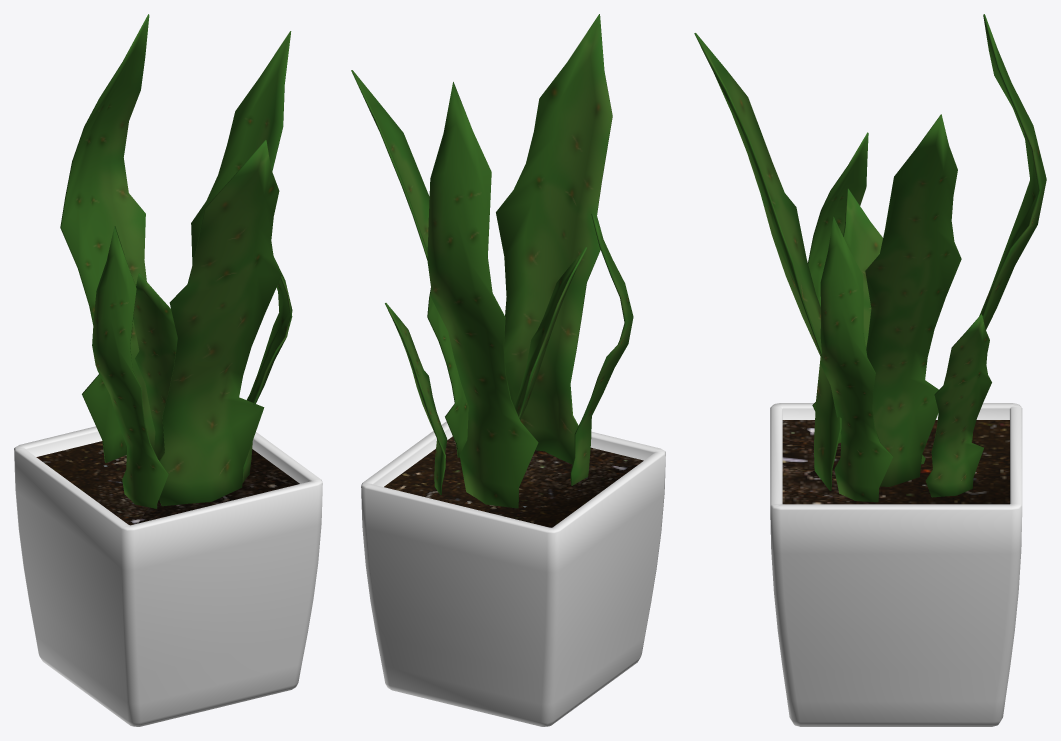
File: Shelf_props_cactus.fbx
3 views of the same model, side by side, from view 1: azimuth 30°, elevation 25°; view 2: azimuth 150°, elevation 25°; view 3: azimuth 270°, elevation 25° (orthographic). The views are drawn at different scales.
Parts seen in each view (by area): view 1: Cylinder.021; view 2: Cylinder.021; view 3: Cylinder.021.
Boxes of the visible parts, x1=… form: Cylinder.021: x1=14, y1=14, x2=322, y2=726; Cylinder.021: x1=351, y1=14, x2=665, y2=726; Cylinder.021: x1=694, y1=14, x2=1046, y2=726.
Bounding box in the file's own units: 16.54 × 40.65 × 19.02.
